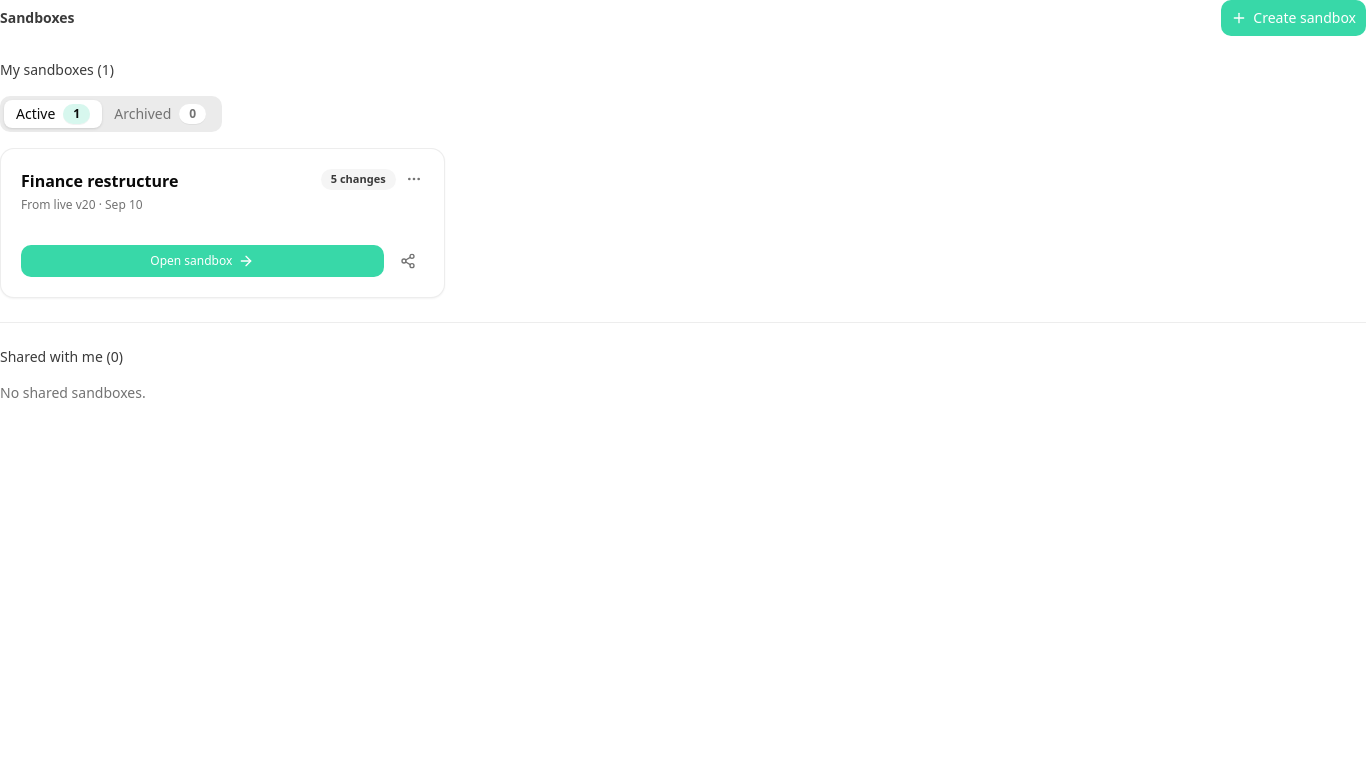
it: sandbox sharing › opens the functional named-user sharing controls from a card
Click the button named "Share Finance restructure": (408, 261) [392, 245, 424, 277]
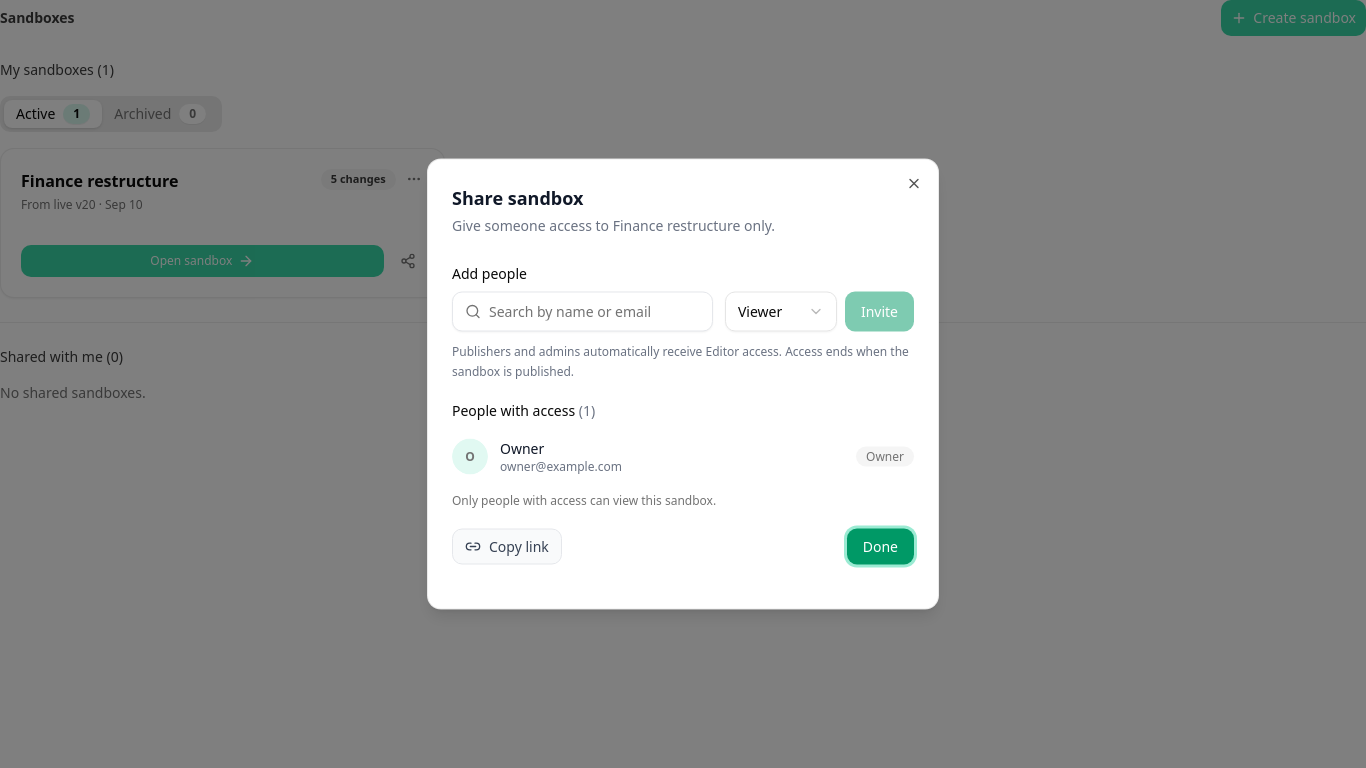
Now the text "Give someone access to Finance restructure only." is shown, box [452, 216, 775, 234]
Now the dropdown labelled "Add people" is shown, box [481, 302, 704, 322]
Now the element showing "Copy link Done" is shown, box [452, 528, 914, 564]
Click the button "Done": (880, 546) [847, 528, 914, 564]
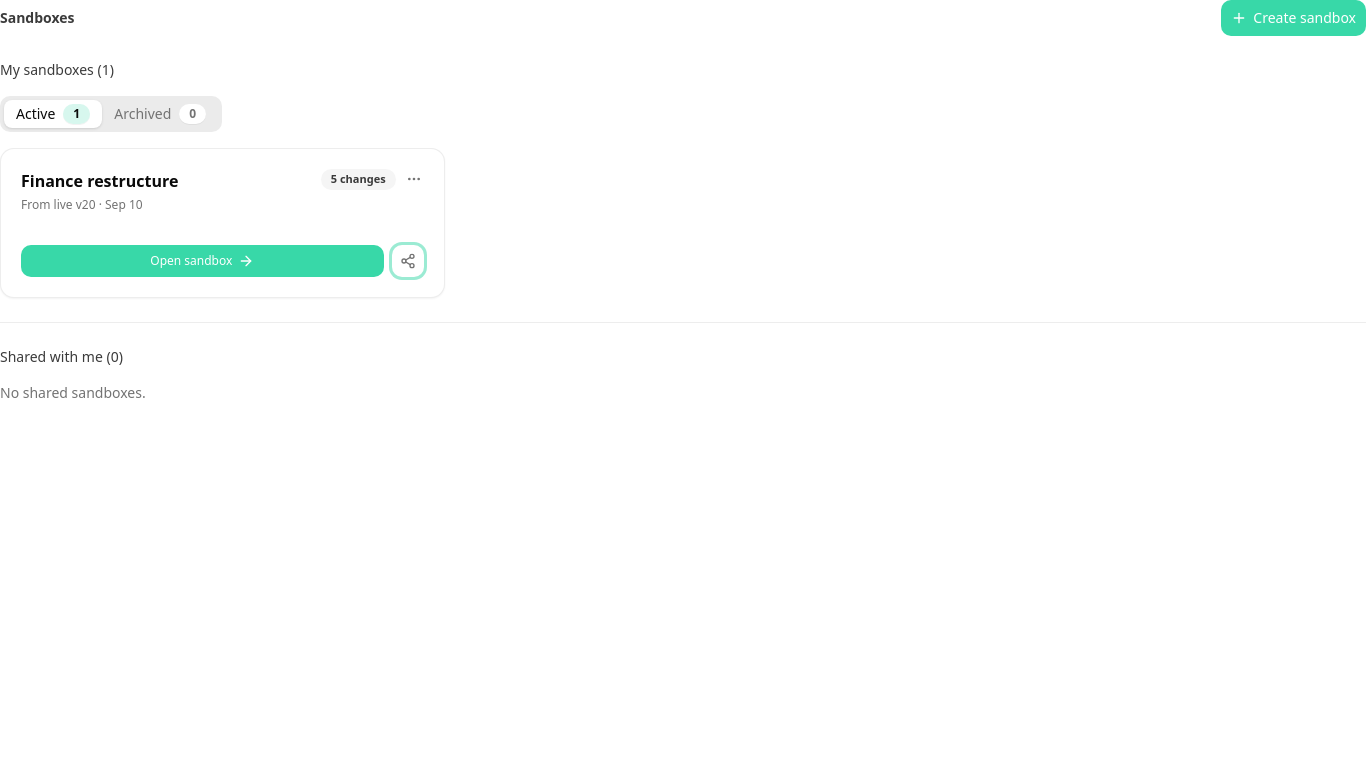
Now the dialog is gone
